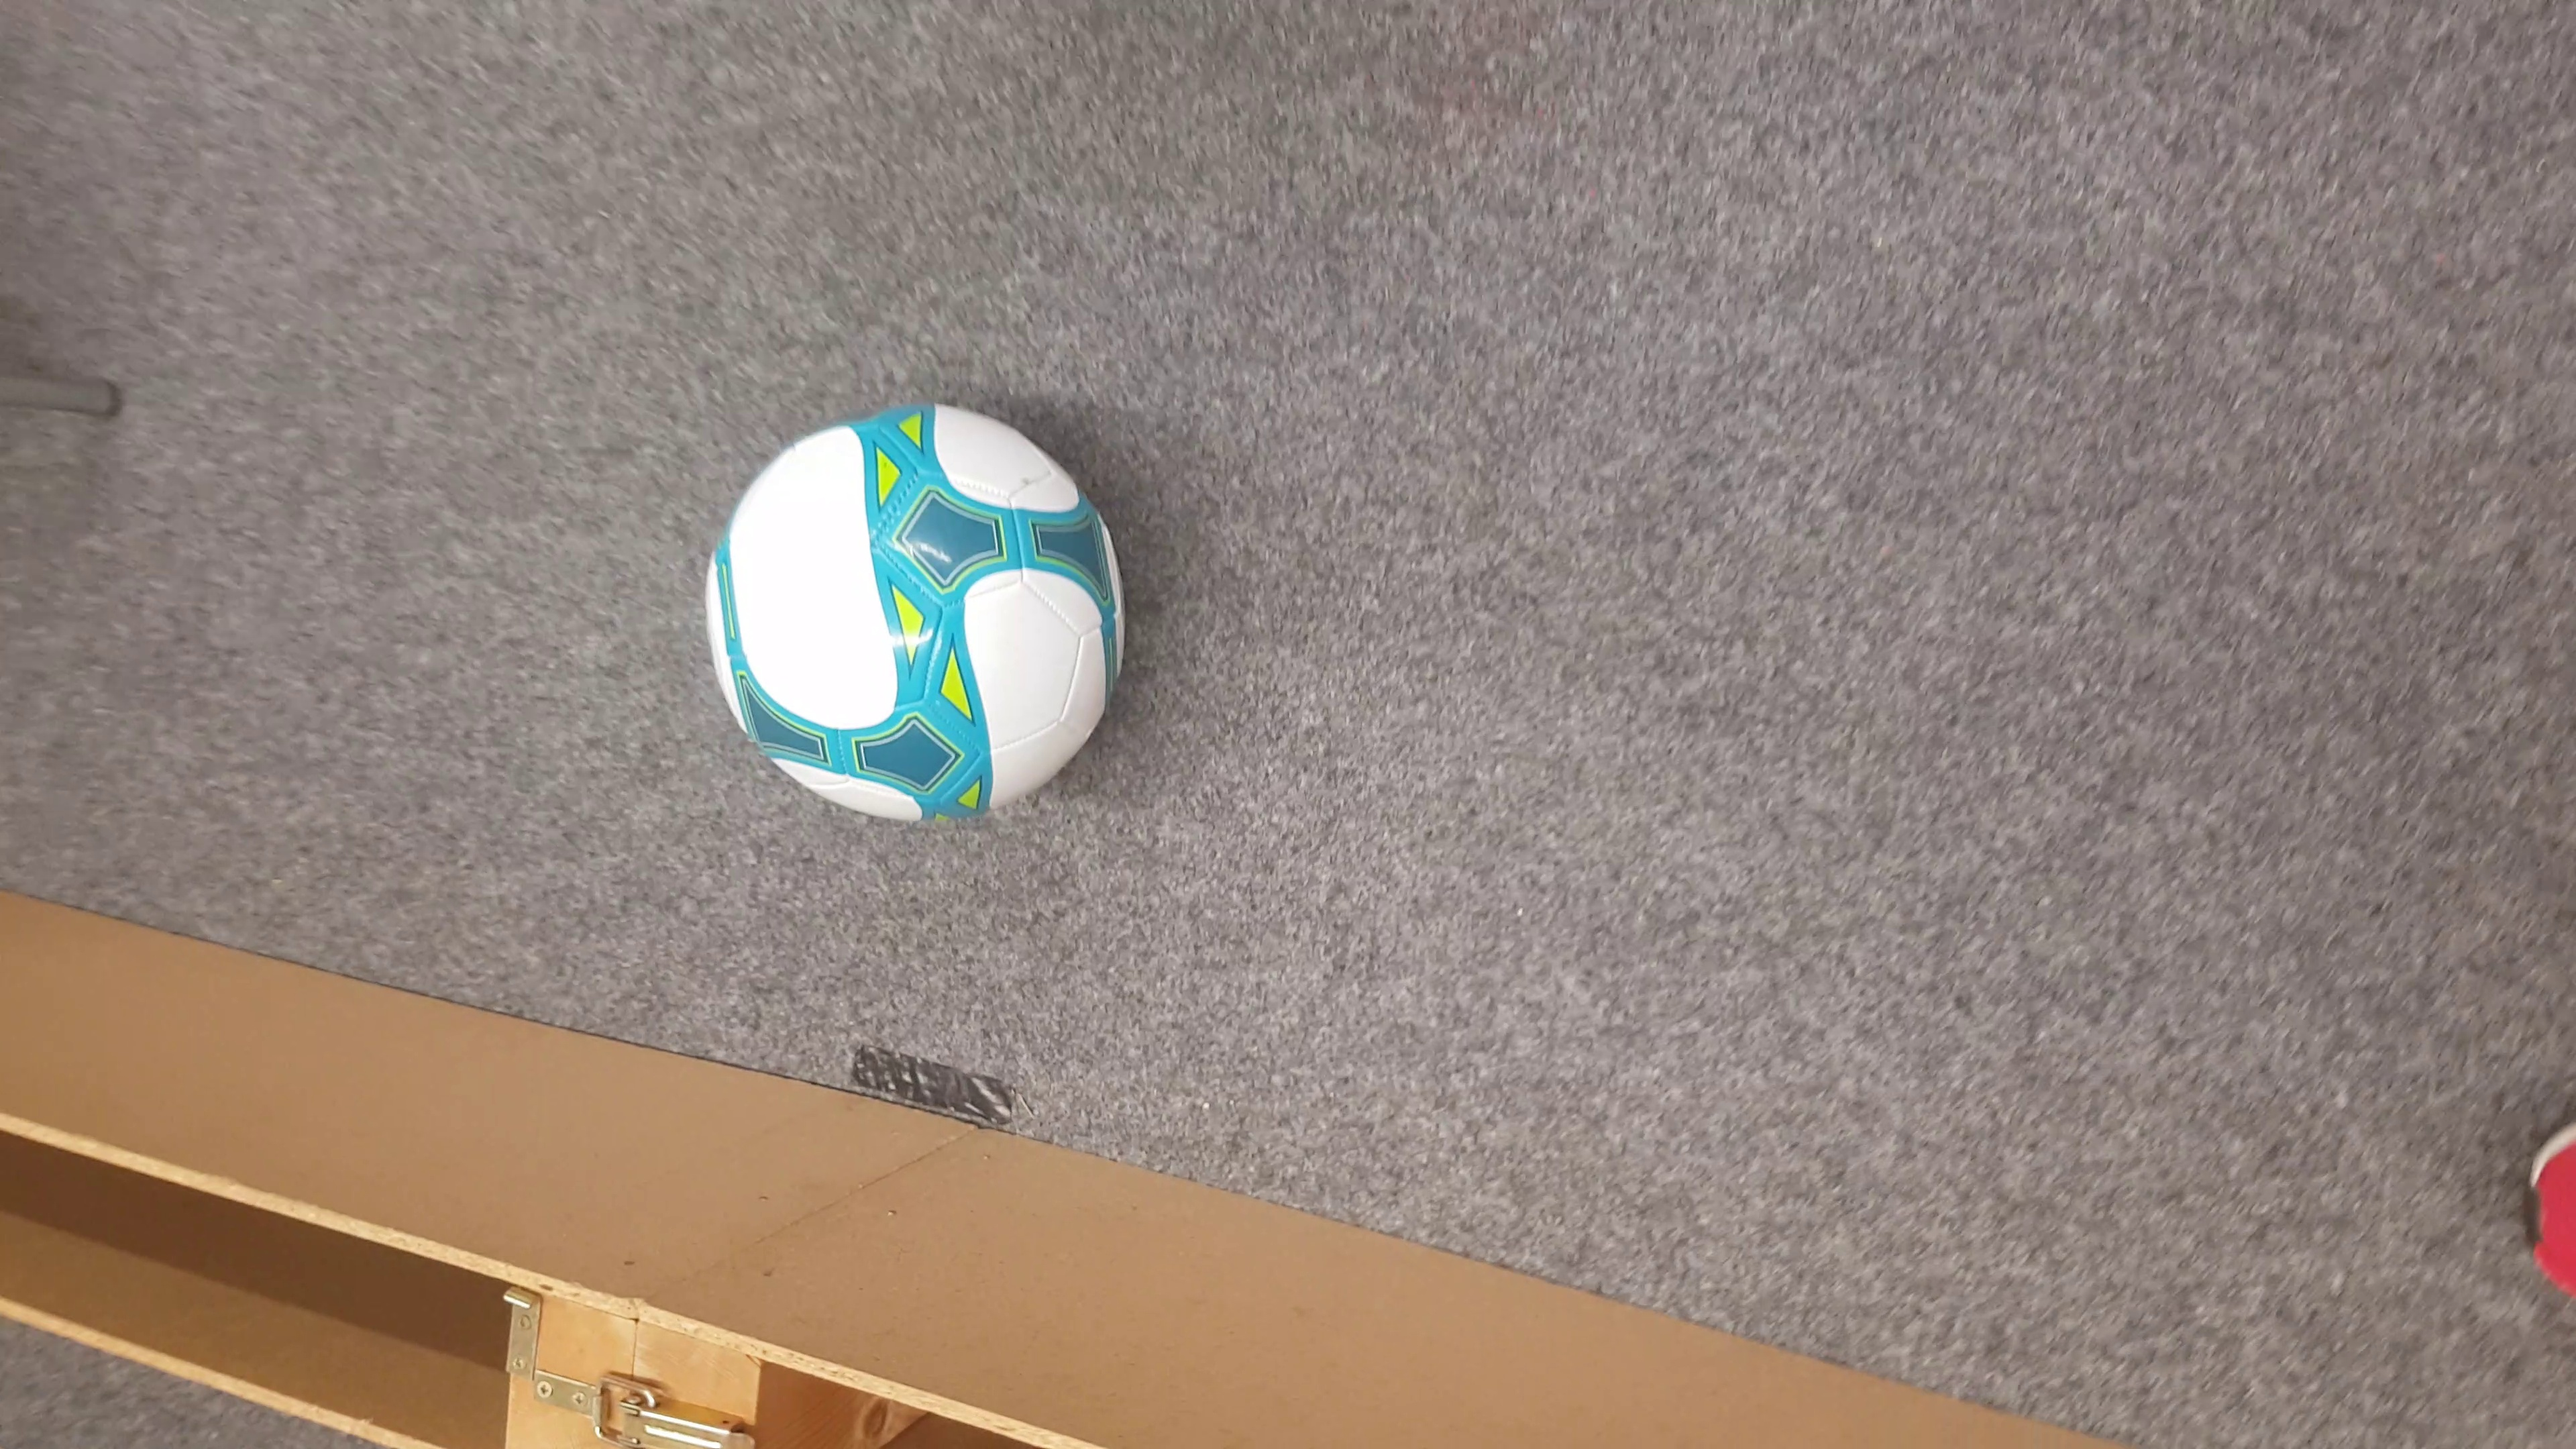kick: (708, 396, 1132, 817)
